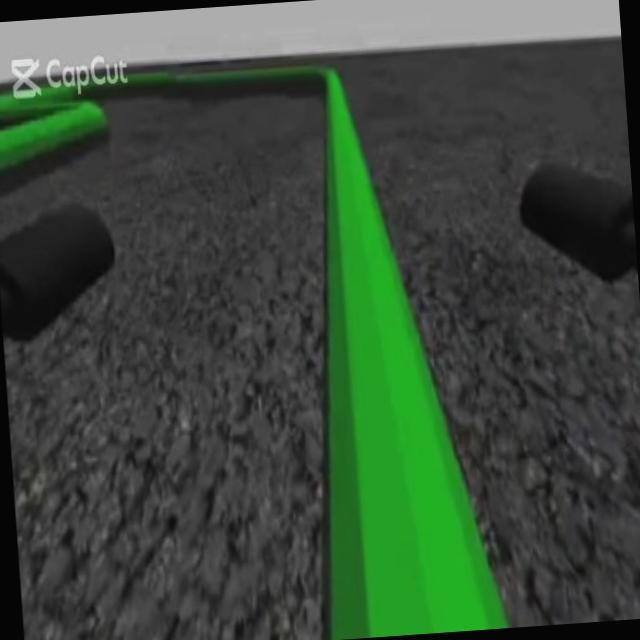gas: (288, 62, 514, 640)
